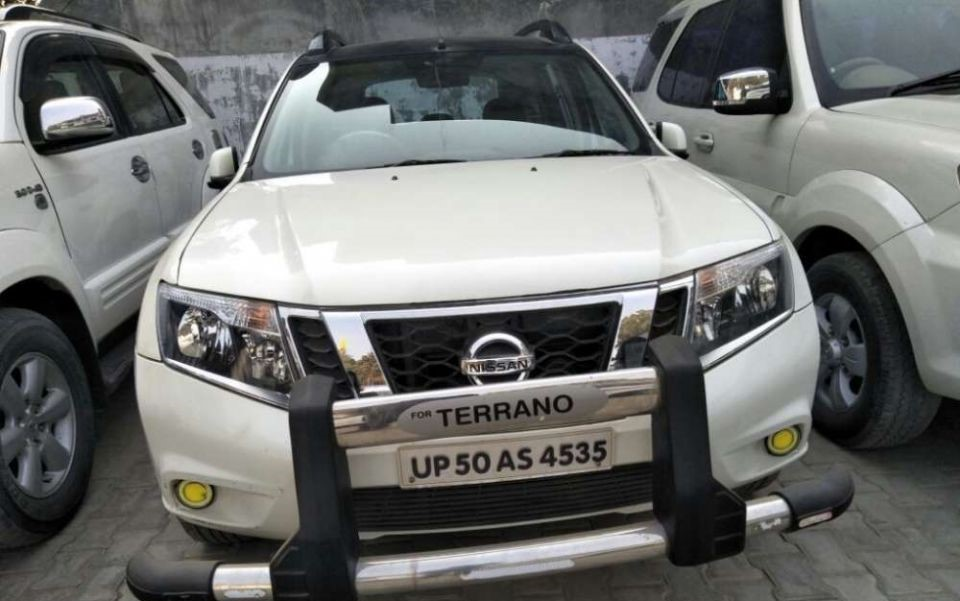UP50AS4535: (397, 428, 613, 489)
